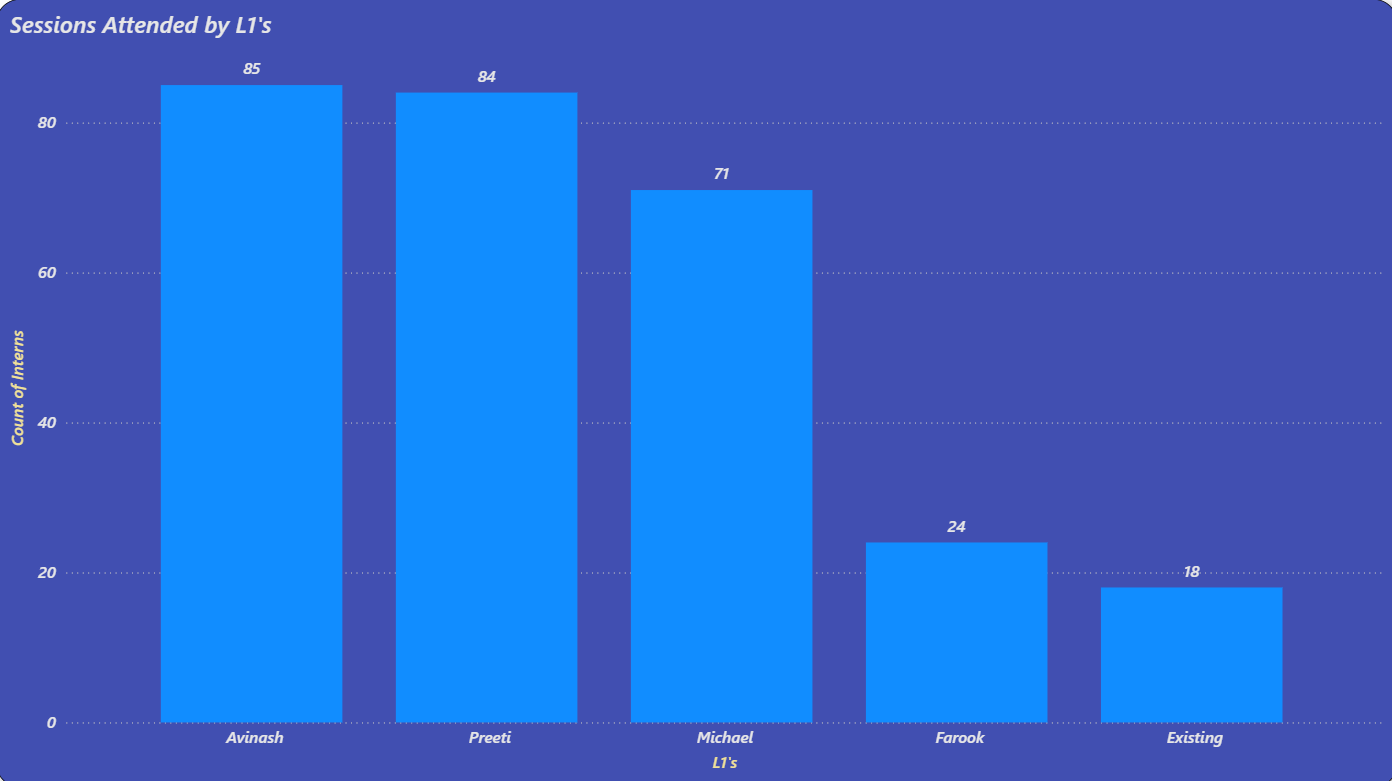

What the dashboard file says about the page in this screenshot:
{"tool":"powerbi","page":{"name":"Page 4","canvas":[1280,720],"ordinal":3},"visuals":[{"type":"clusteredColumnChart","title":"Sessions  Attended by L1''s","fields":{"Category":["L1 performence w3.L1 Name"],"Y":["Sum(L1 performence w2.Count)","Sum(L1 performence.Attendees)","Sum(L1 performence w3.Attendees)"]},"box":[0,0,1280,720],"z":0}]}

Visuals, with their boxes in screenshot pixels (x1, y1, x2, y2), scaled from the page's 1280x720 canvas onto the 1392x781 screenshot:
"Sessions  Attended by L1''s" clusteredColumnChart: <box>0,0,1391,780</box>
